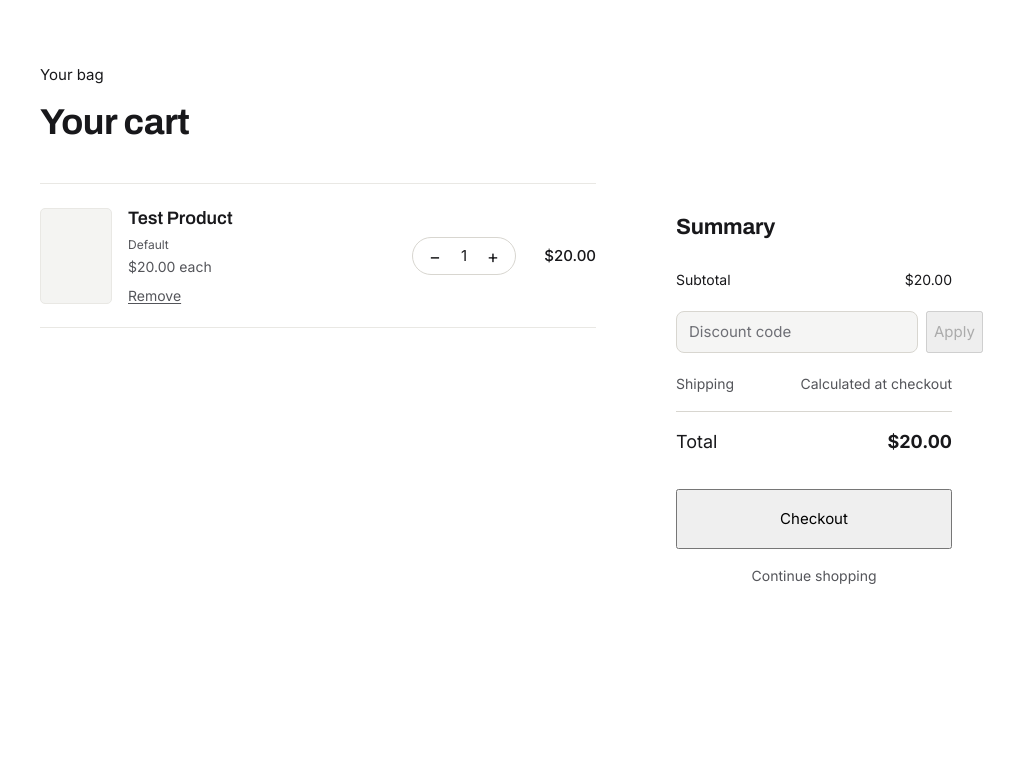
Scenario: CartView › renders a coupon-apply failure as .coupon__error[role="alert"]
Type "BADCODE" into the field with placeholder "Discount code". click: coordinates (797, 332)
box: [676,311,918,353]
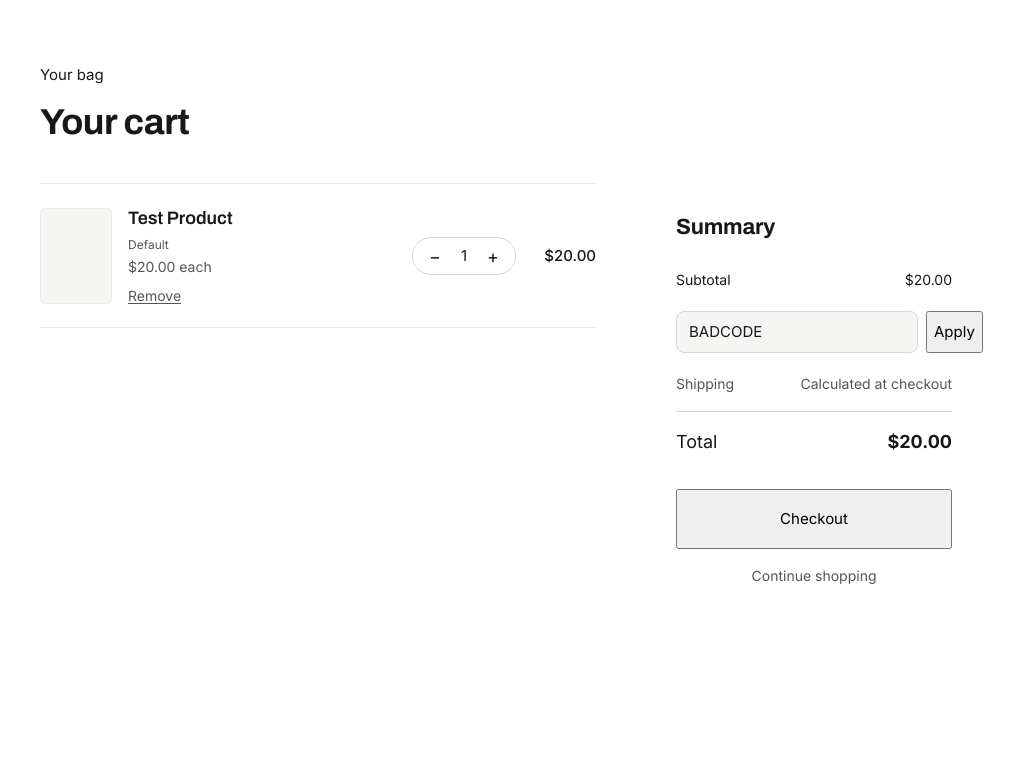
Submit the form with class "coupon", box [676,311,952,353]
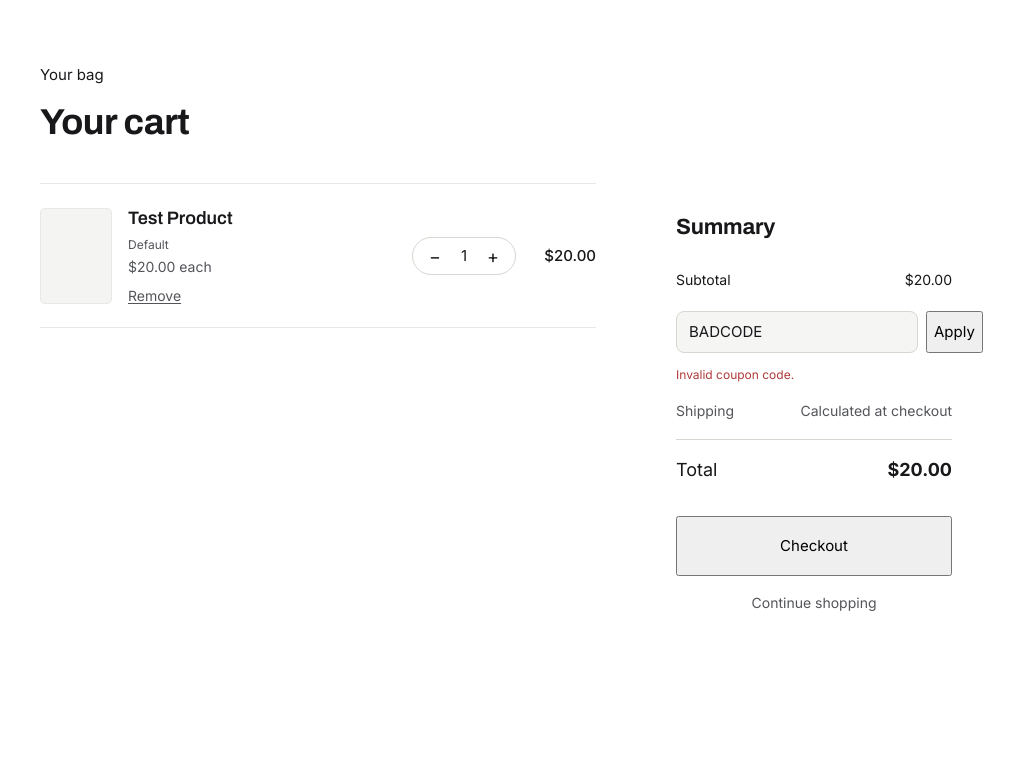
Now the message with class "coupon__error" reads "Invalid coupon code.", box [676,367,794,382]
